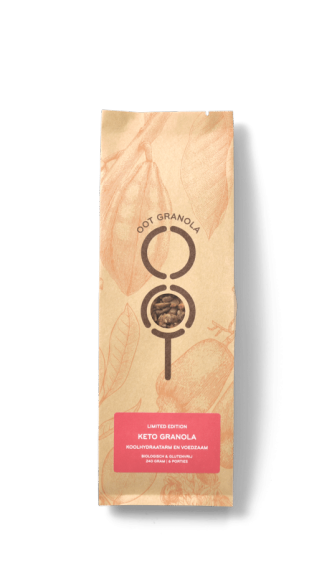KetoGranola: (100, 110, 232, 505)
